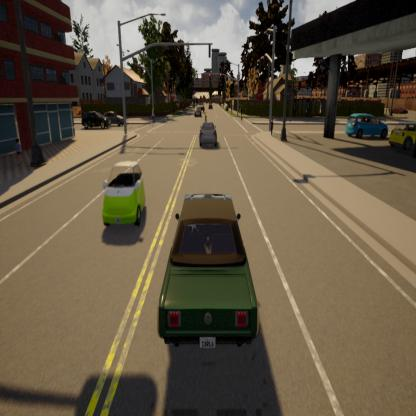Cars: (155, 185, 268, 360), (104, 158, 149, 237), (344, 113, 386, 141), (388, 120, 416, 150), (196, 122, 220, 155), (81, 108, 110, 129), (103, 109, 126, 130), (388, 103, 408, 118), (194, 107, 202, 118)
Pedestrian: (201, 109, 208, 124), (150, 108, 155, 124), (240, 106, 245, 122)
